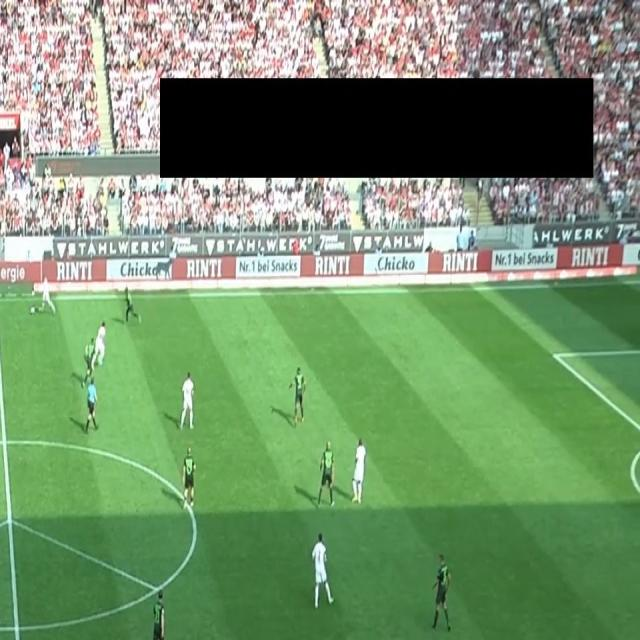ball: (30, 305, 36, 315)
